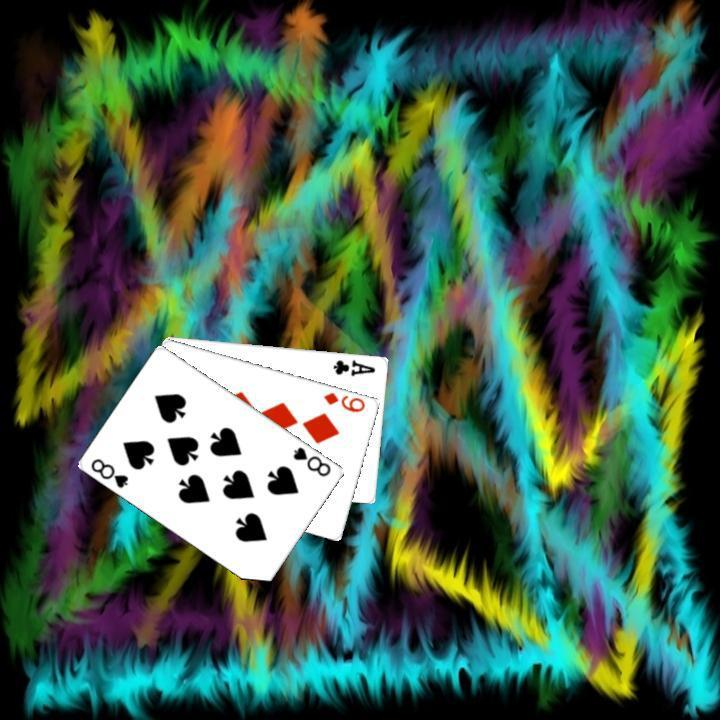8: (289, 442, 333, 479), (87, 454, 131, 490)
9: (320, 387, 367, 414)
A: (329, 355, 377, 378)
